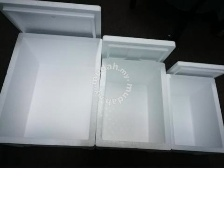foam_box: (0, 0, 105, 150), (91, 31, 178, 153), (161, 57, 224, 156)
